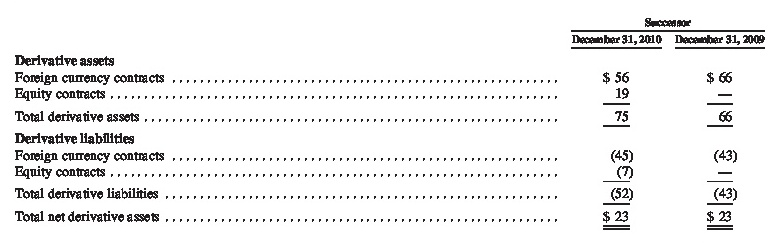table: (0, 0, 778, 249)
